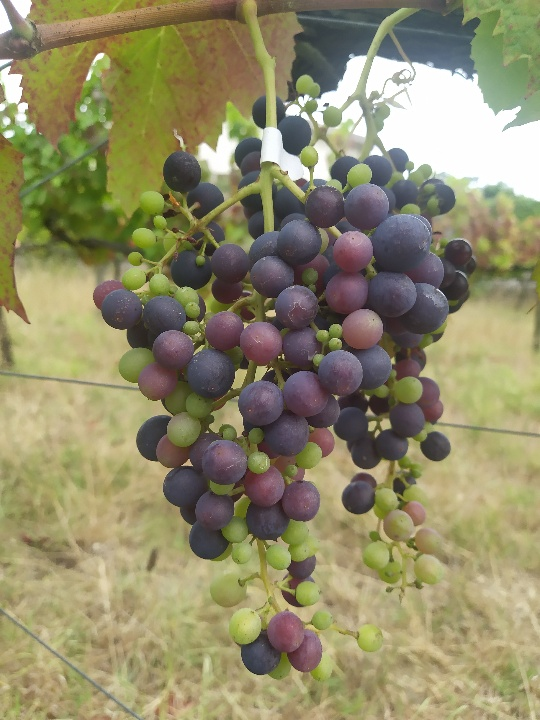grape: (94, 94, 450, 684)
